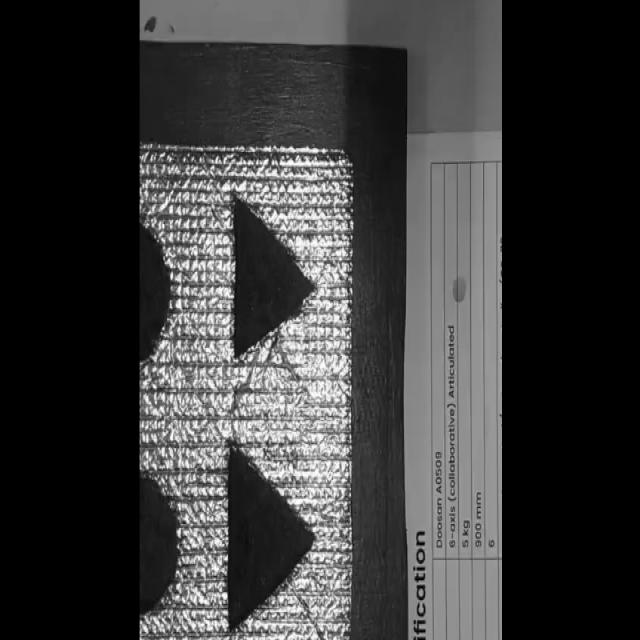mtcircle: (139, 472, 180, 617), (139, 216, 172, 369)
mtcube: (141, 476, 179, 617)
mttriangle: (224, 440, 315, 633), (231, 196, 316, 360)
wb: (140, 145, 352, 640)
